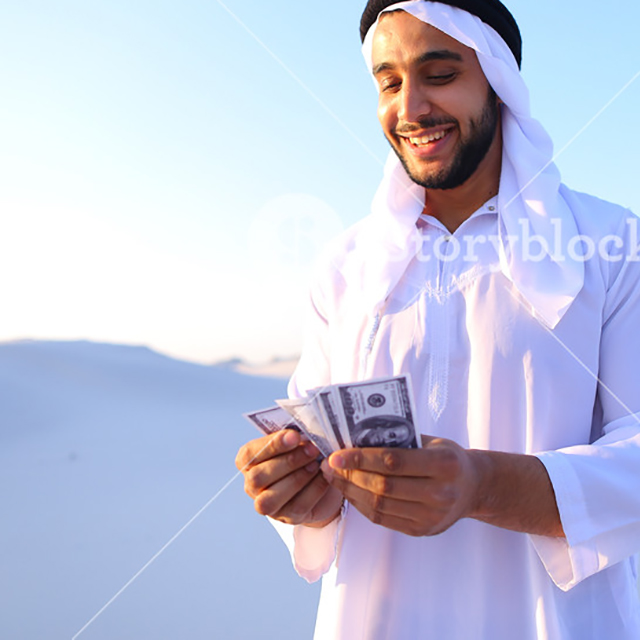banknotes: (250, 375, 424, 447)
